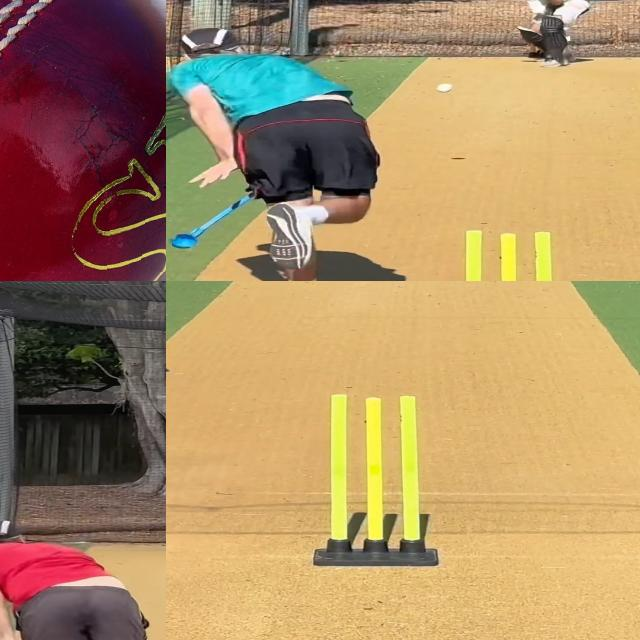Cricket ball: (0, 0, 166, 281), (435, 82, 456, 94)
Stumps: (313, 393, 440, 566)
